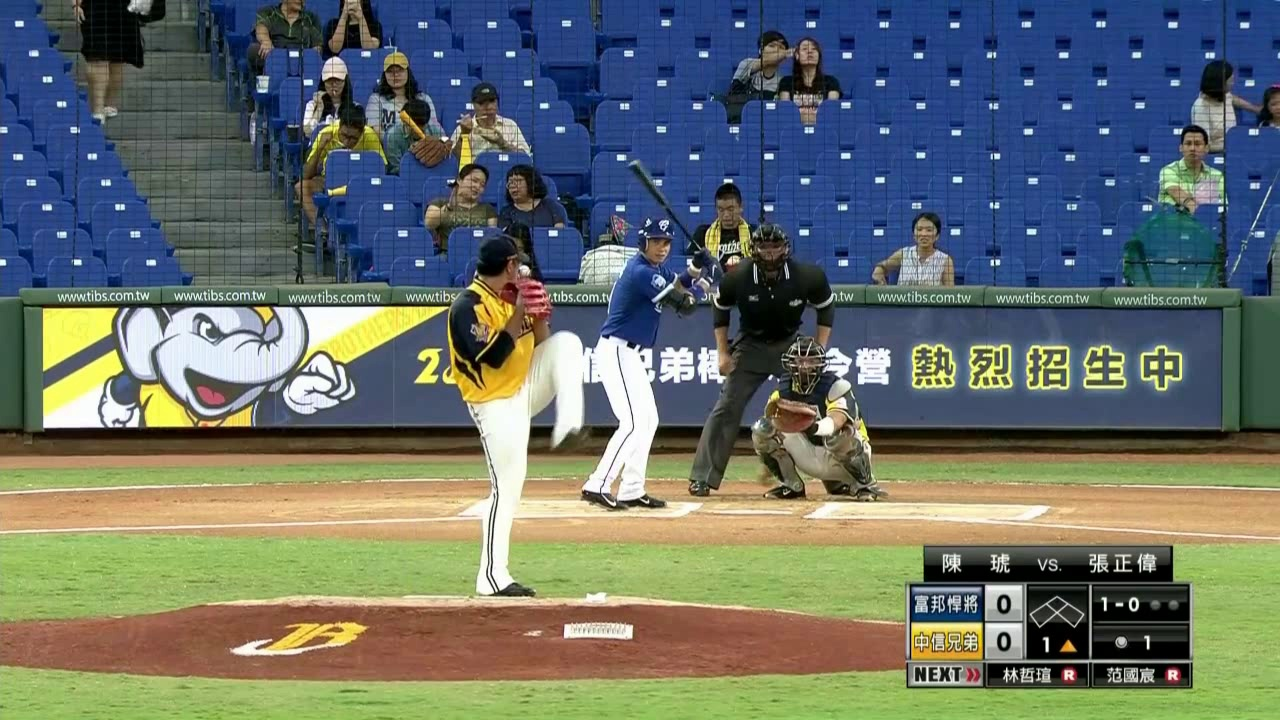base: (1026, 588, 1087, 632)
bat: (629, 161, 719, 268)
out: (1147, 594, 1184, 614)
score1: (987, 588, 1024, 622)
score2: (986, 627, 1019, 655)
session: (1027, 633, 1086, 659)
strikeball: (1096, 587, 1142, 617)
total: (1100, 626, 1172, 657)
